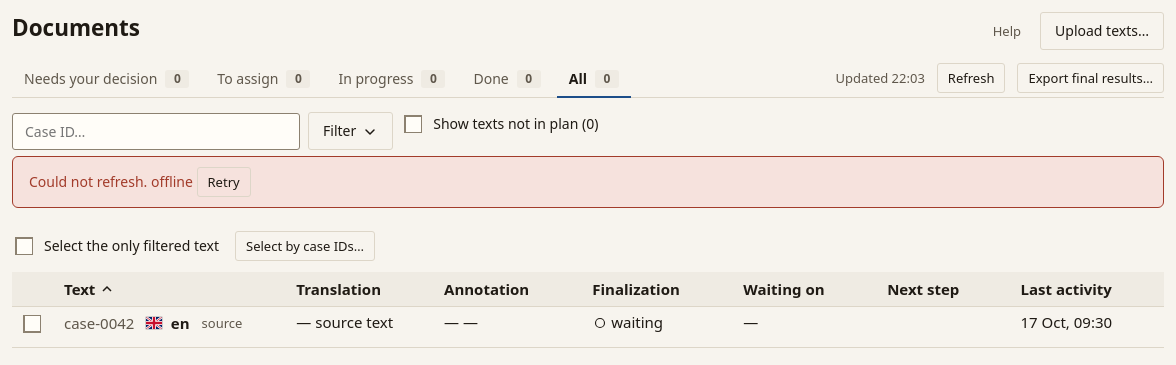
keeps the rows and shows Could not refresh when a background refetch fails
Expected: the message shows "Could not refresh", [29, 172, 151, 191]
Expected: the table named "Documents" is shown, [12, 272, 1164, 348]
Click the button "Retry" at (224, 182), box [196, 167, 251, 197]
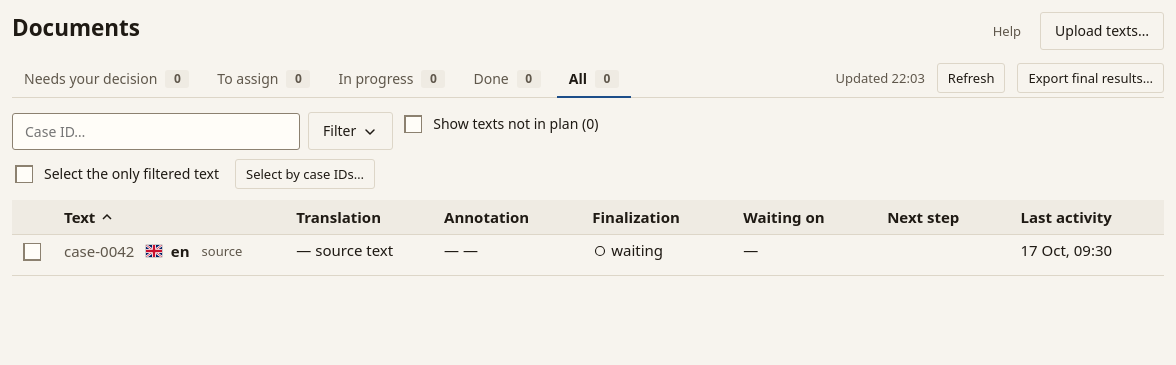
Result: the message "Could not refresh. offline Retry" is gone
